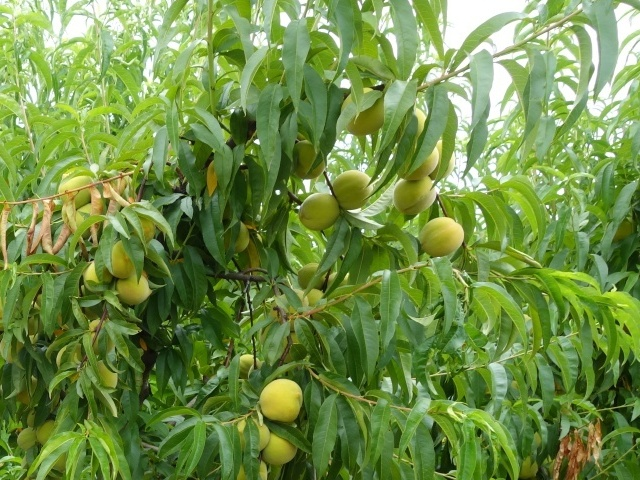peach: (337, 84, 390, 138), (256, 376, 307, 427), (416, 213, 468, 261), (391, 171, 442, 218), (293, 190, 346, 234), (327, 169, 378, 213), (397, 139, 442, 184), (98, 240, 141, 283), (287, 136, 327, 182), (227, 416, 274, 454), (111, 267, 153, 308), (260, 427, 300, 468), (55, 172, 97, 211), (424, 136, 460, 181), (82, 317, 120, 359), (220, 216, 254, 259), (293, 258, 331, 293), (79, 256, 110, 298), (69, 199, 102, 237), (234, 352, 265, 382), (299, 283, 330, 312), (12, 423, 40, 453), (34, 416, 64, 444)
